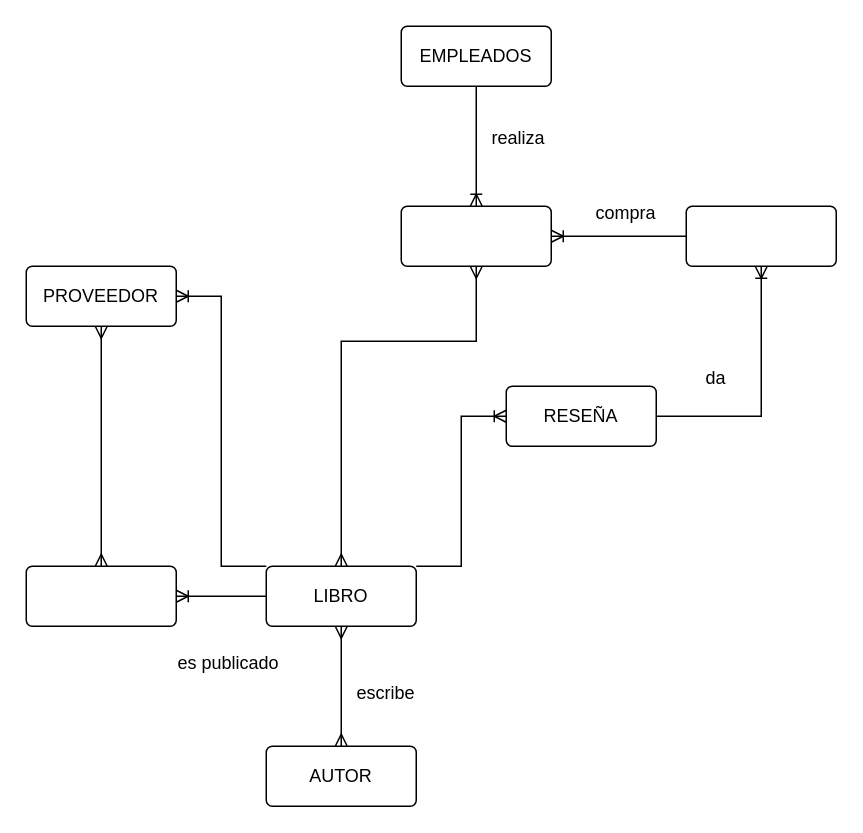
Some shapes in this 863 by 833 pixel diagram are drawn without their labels. The box of each missing label's shape, as (x1, y1, x2, y2) in pixels:
CLIENTE: (685, 205, 836, 266)
EDITORIAL: (25, 565, 176, 626)
VENTA: (400, 205, 551, 266)
